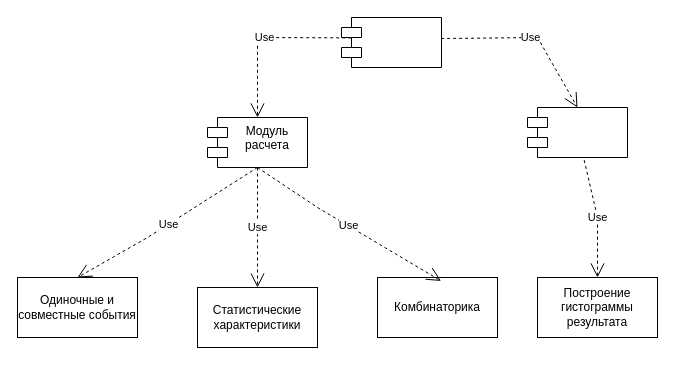
This 675x365 diagram has some shape labels left out. Each missing label, with the box of its shape:
Главный модуль: (340, 16, 442, 68)
Модуль визуализации: (526, 106, 628, 158)
